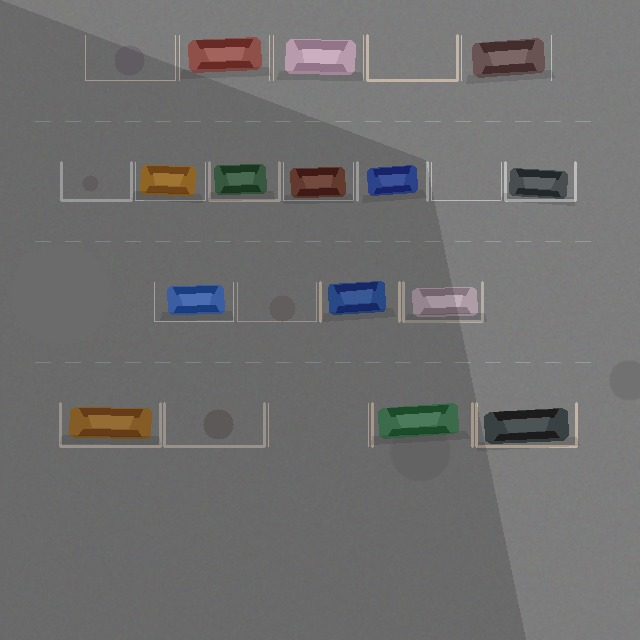space-empty: (164, 403, 264, 446), (268, 403, 368, 446), (85, 35, 175, 80), (367, 35, 457, 80), (237, 282, 316, 321), (61, 162, 131, 200), (431, 162, 501, 200)
space-occupied: (60, 403, 160, 446), (372, 403, 472, 446), (476, 403, 576, 446), (179, 35, 269, 80), (273, 35, 363, 80), (461, 35, 551, 80), (154, 282, 233, 321), (320, 282, 399, 321), (403, 282, 482, 321), (135, 162, 205, 200), (209, 162, 279, 200), (283, 162, 353, 200), (357, 162, 427, 200), (505, 162, 575, 200)
